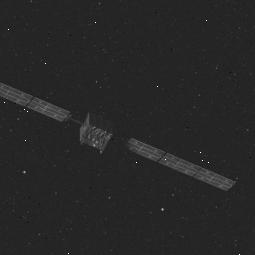smart_1: (14, 81, 175, 174)
